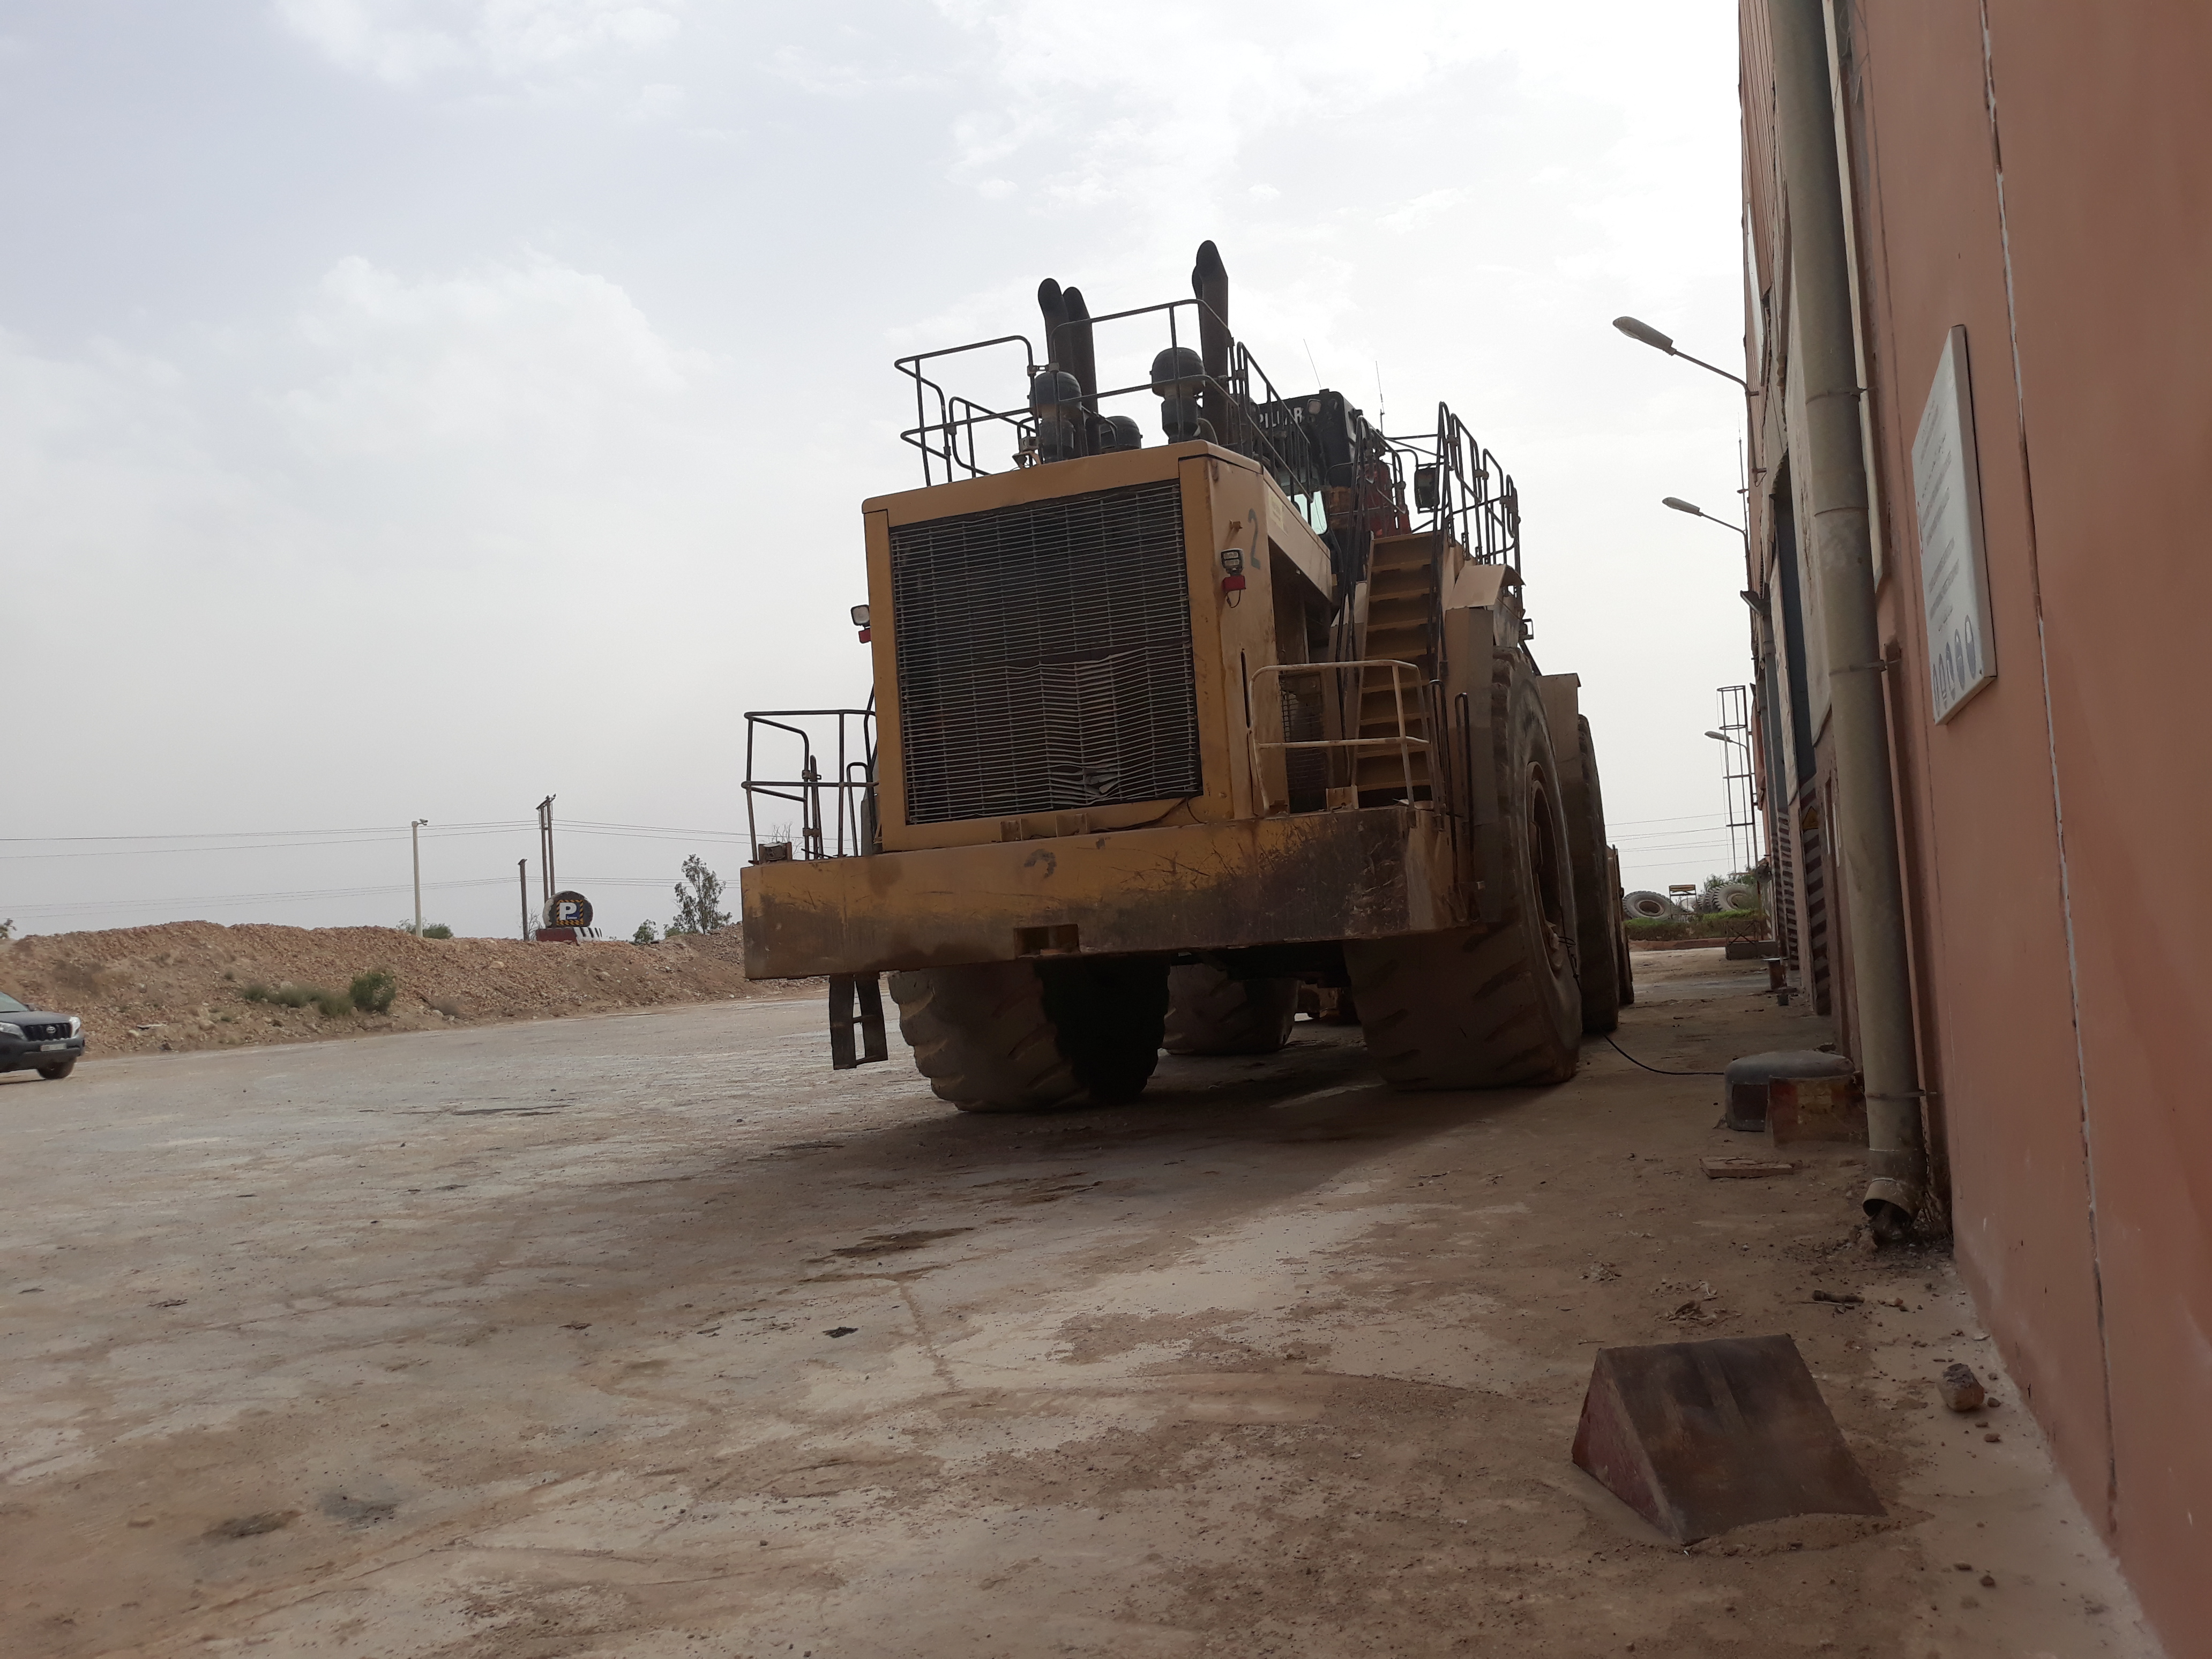car: (0, 955, 106, 1098)
chargeuse: (704, 258, 1658, 1199)
